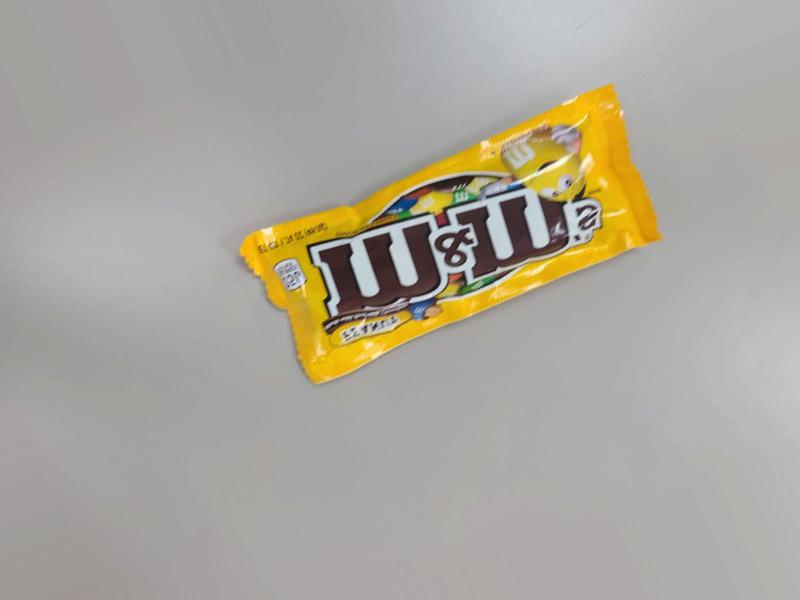m&m: (262, 80, 664, 423)
